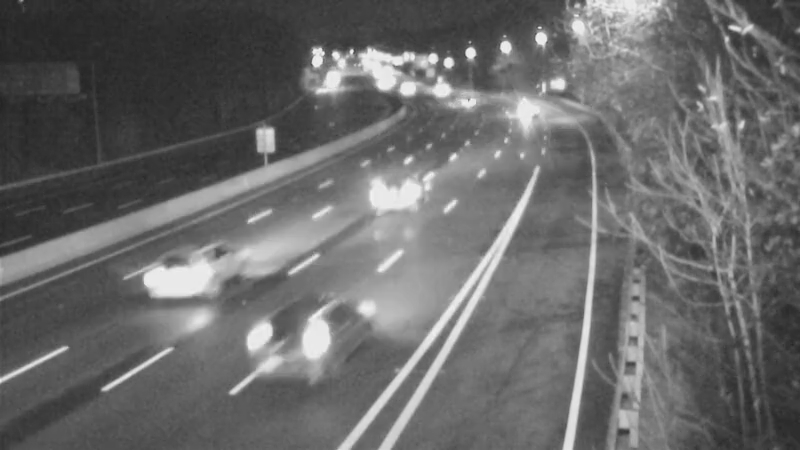vehicle: (233, 301, 343, 411), (373, 146, 453, 226), (125, 248, 205, 328), (381, 63, 431, 113), (419, 65, 469, 115), (436, 79, 486, 129), (508, 85, 558, 135)
